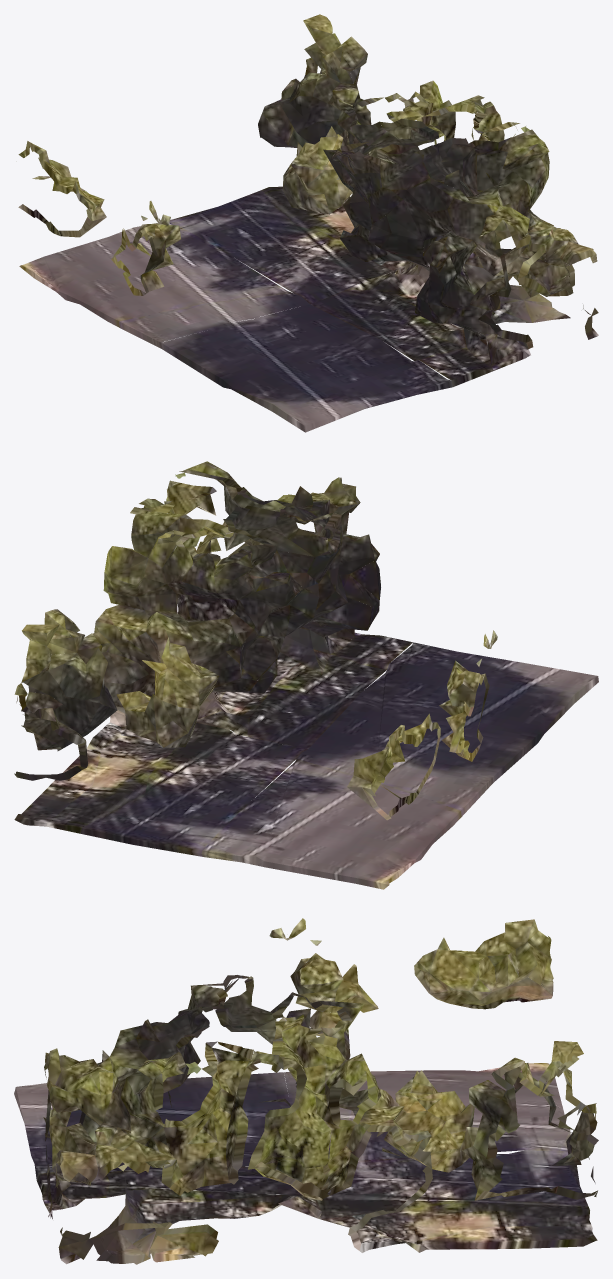
3 renders of one model, top to bottom at view 1: azimuth 30°, elevation 25°; view 2: azimuth 150°, elevation 25°; view 3: azimuth 270°, elevation 25°, orthographic. The views are drawn at different scales.
Parts seen in each view (by area): view 1: Mesh_0; view 2: Mesh_0; view 3: Mesh_0.
Boxes of the visible parts, x1,y1,x2,y2 form: Mesh_0: (18,14,598,432); Mesh_0: (14,461,598,889); Mesh_0: (14,918,598,1264).
Bounding box in the file's own units: 33.77 × 15.82 × 41.55.
Materials: 2 (2 with a texture image).
